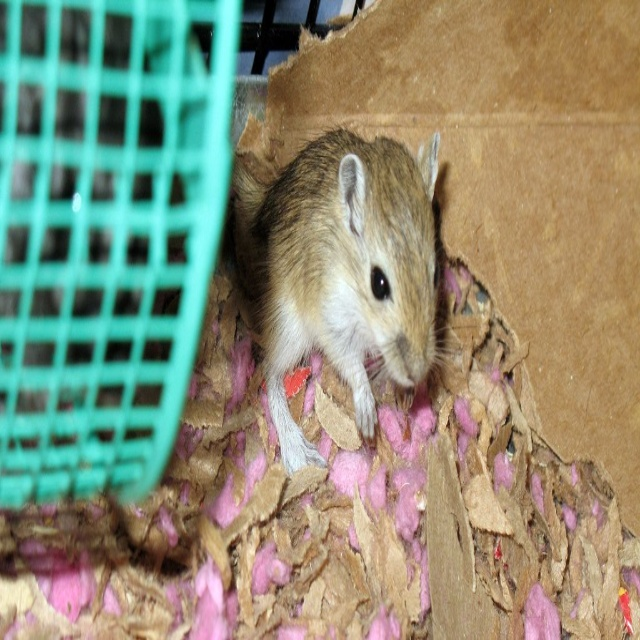Hamster: (215, 113, 477, 486)
